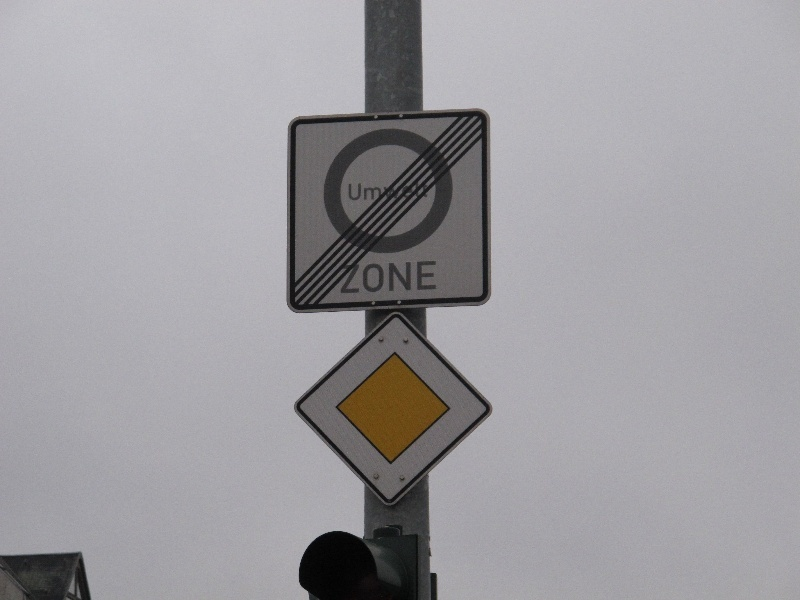text: (353, 261, 368, 294), (369, 261, 384, 294), (385, 261, 400, 294), (401, 261, 416, 294), (417, 261, 432, 294), (342, 261, 352, 294), (353, 182, 368, 202), (369, 182, 384, 202), (385, 182, 400, 202), (401, 182, 416, 202), (417, 182, 427, 202), (433, 261, 436, 294), (349, 182, 352, 202)
